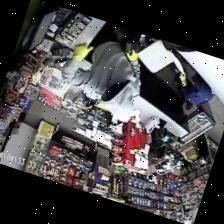person: (63, 22, 141, 121), (180, 73, 213, 104)
